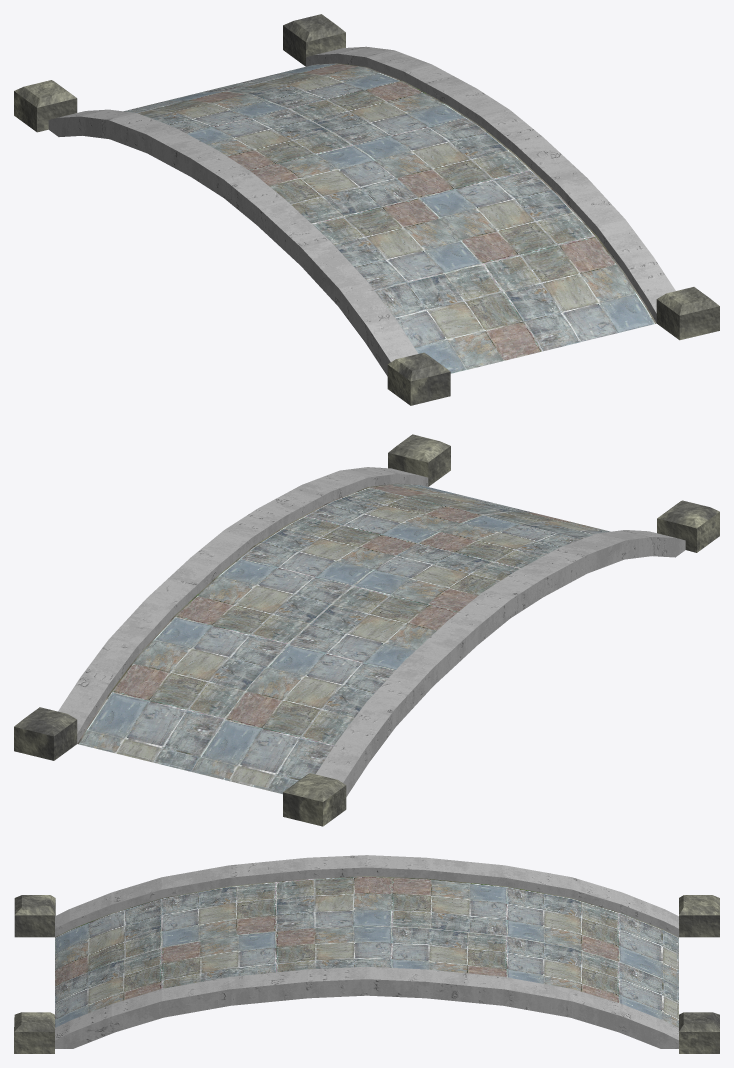
The model's file is Bridge.fbx.
The picture shows the model from 3 angles, top to bottom: view 1: azimuth 30°, elevation 25°; view 2: azimuth 150°, elevation 25°; view 3: azimuth 270°, elevation 25°; orthographic projection. The views are drawn at different scales.
Parts seen in each view (by area): view 1: BridgeMain; view 2: BridgeMain; view 3: BridgeMain.
Boxes of the visible parts, x1=… form: BridgeMain: x1=14, y1=14, x2=719, y2=405; BridgeMain: x1=14, y1=434, x2=719, y2=826; BridgeMain: x1=14, y1=855, x2=719, y2=1053.
Bounding box in the file's own units: 540 × 131 × 1202.
Materials: 1 (1 with a texture image).
